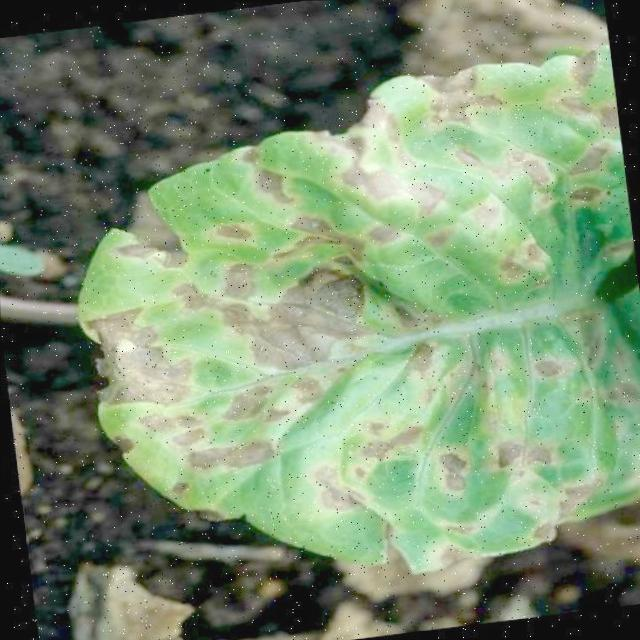Septoria_Blight: (72, 47, 640, 600)
